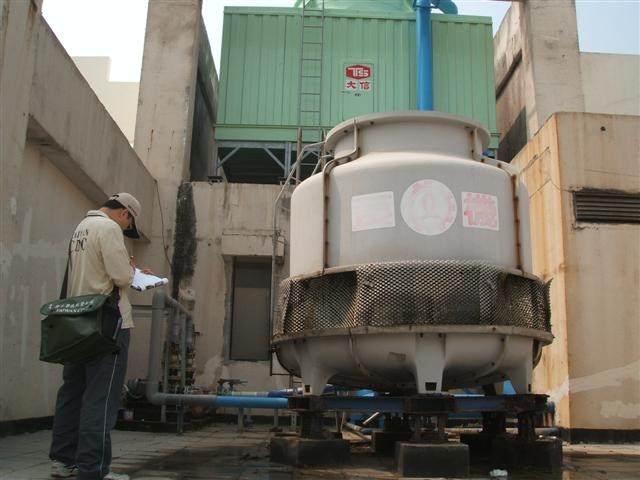water_tower: (273, 109, 552, 397)
